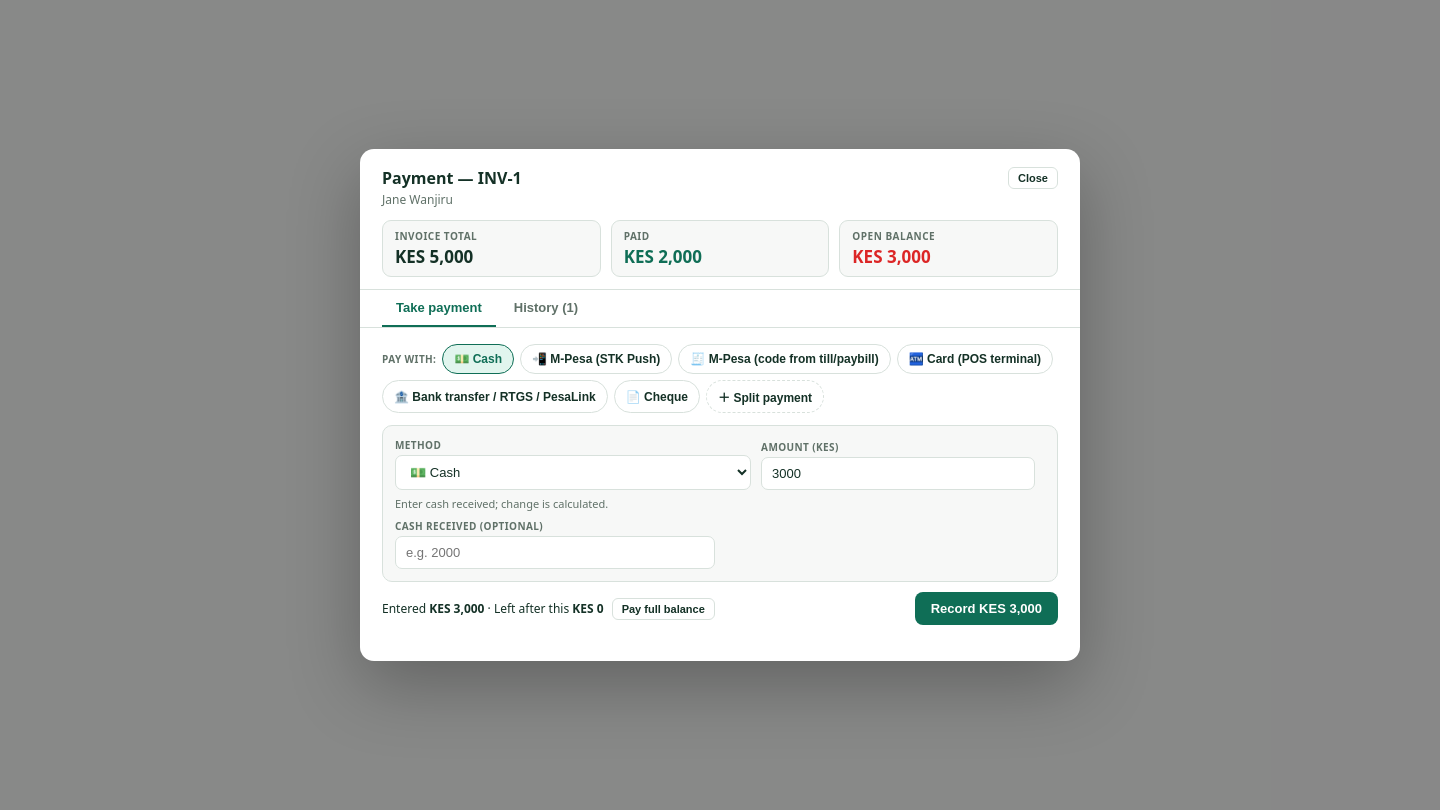
Scenario: PaymentModal › history: only finance roles see Refund; receptionist does not
The image size is (1440, 810).
Click the button "History (1)". click: click(546, 308)
box: [500, 290, 592, 327]
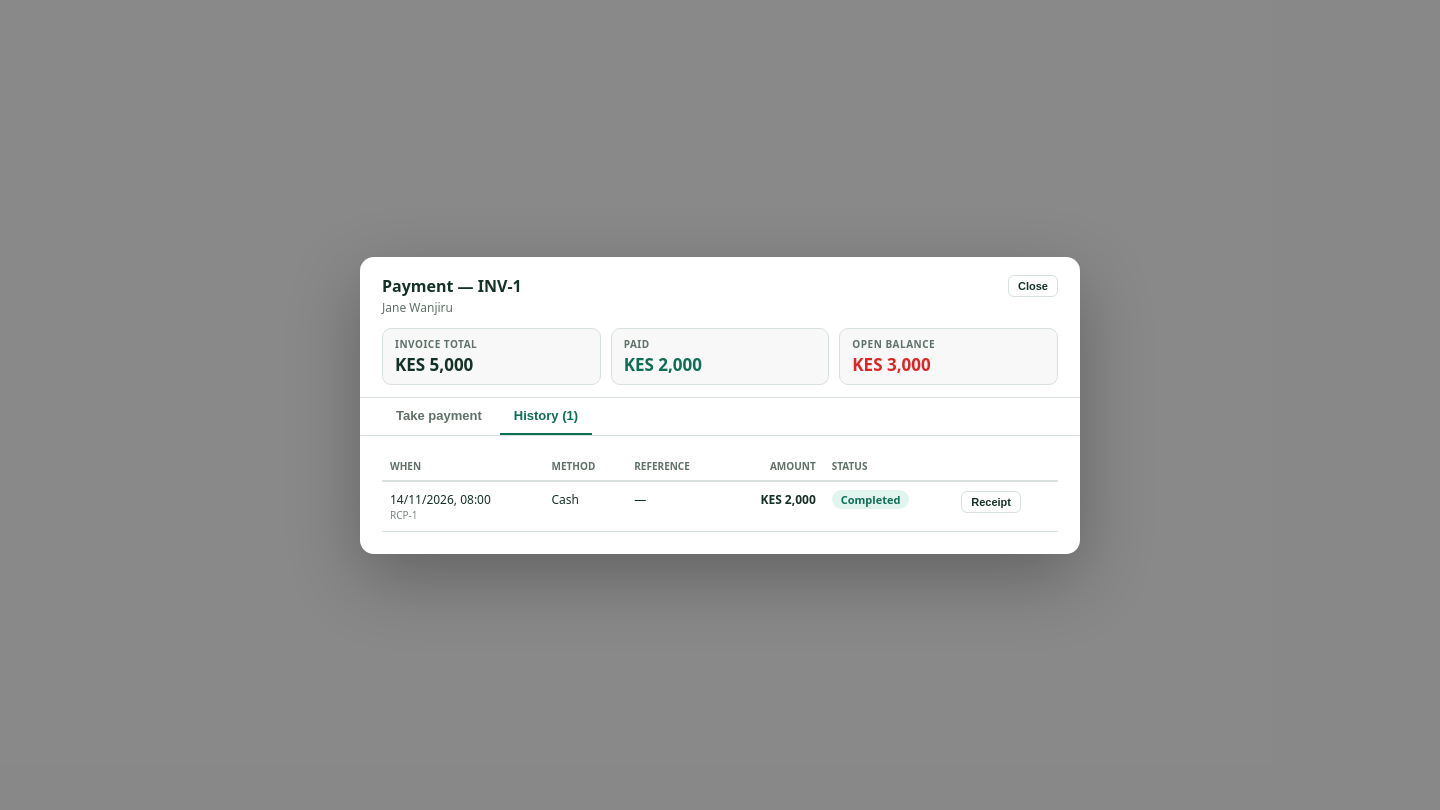
Check: the text "RCP-1" is shown, box [390, 508, 418, 522]
